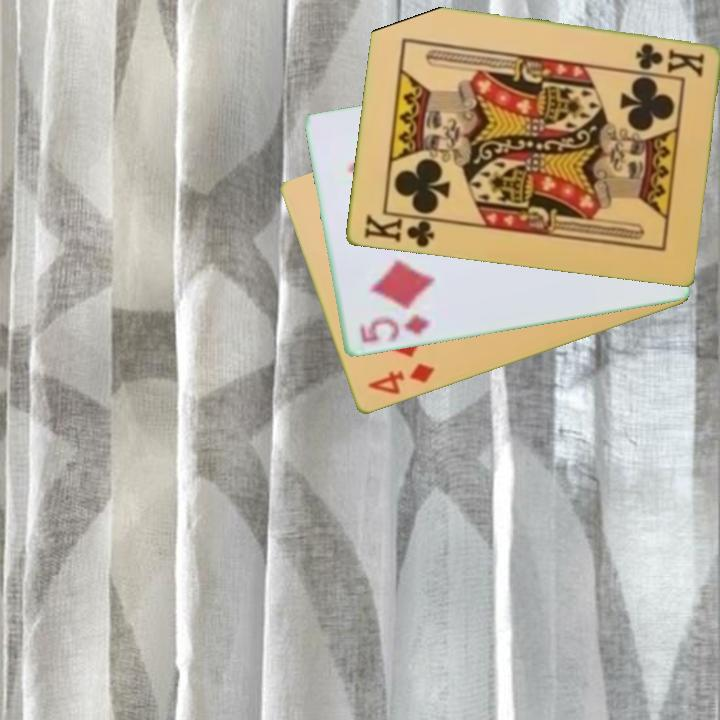4d: (364, 360, 438, 398)
5d: (356, 311, 433, 347)
Kc: (360, 210, 441, 251), (631, 40, 707, 78)
